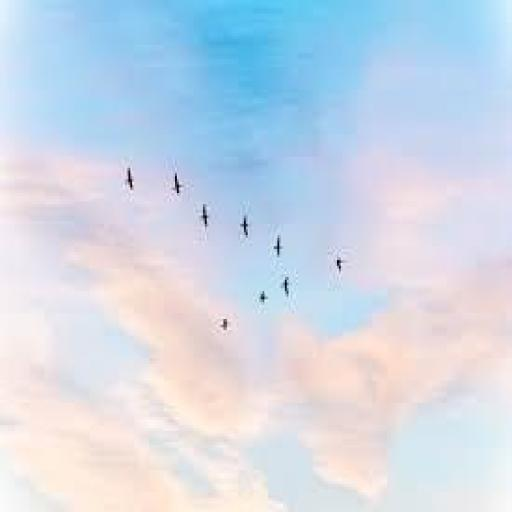birds: (235, 205, 258, 251), (165, 162, 187, 203), (196, 191, 218, 232), (211, 313, 238, 341), (121, 161, 139, 201), (266, 225, 288, 257), (279, 271, 299, 302), (255, 282, 273, 314), (328, 248, 348, 274)
